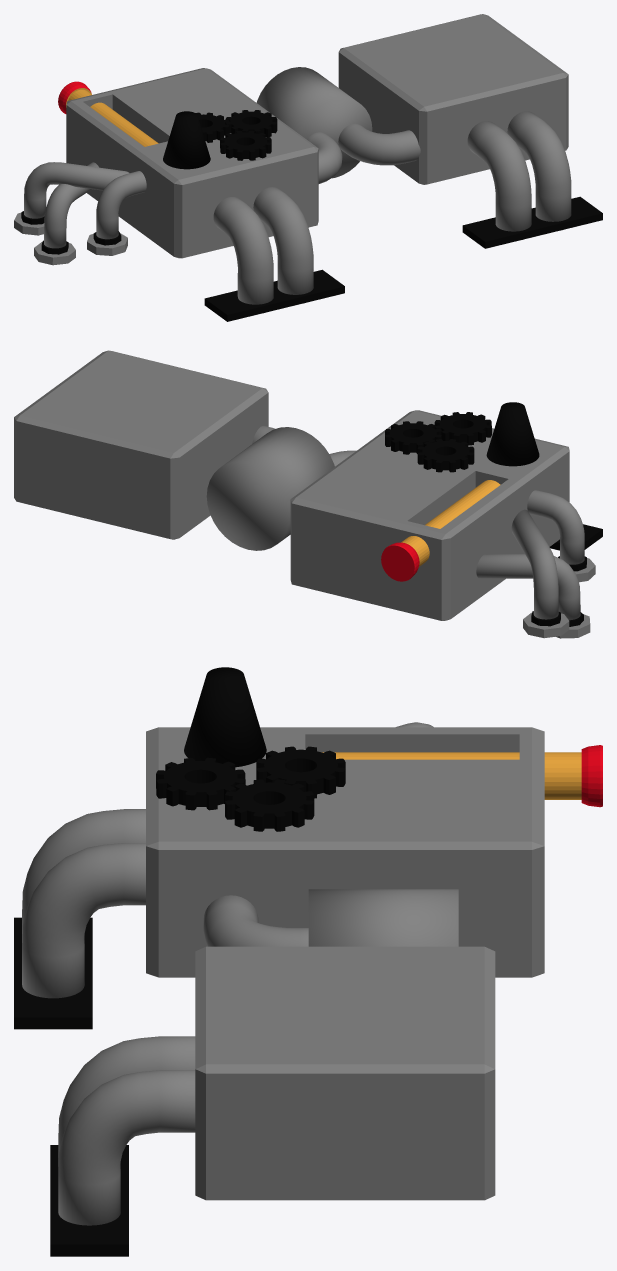
File: PipePlungerTest2.fbx
The picture shows the model from 3 angles, top to bottom: view 1: azimuth 30°, elevation 25°; view 2: azimuth 150°, elevation 25°; view 3: azimuth 270°, elevation 25°; orthographic projection. The views are drawn at different scales.
Visible parts, largest first — view 1: Cube, Cube.001, P1P2Holder.002, P1P2Holder.003, Cylinder.001, BigScrew.004, BigScrew.002, Pipe2Deco.003, BigScrew.003, Cylinder.003, Cylinder.002, Gear.002 (+3 smaller); view 2: Cube.001, Cube, Cylinder.001, BigScrew.004, BigScrew.003, BigScrew.002, Cylinder.002, Cylinder.003, Gear.001, Gear.002, Gear, P1P2Holder.003; view 3: Cube.001, Cube, P1P2Holder.002, P1P2Holder.003, Cylinder.001, Cylinder.003, Cylinder.002, Gear, Pipe2Deco.002, Gear.002, Gear.001.
Boxes of the visible parts, x1,y1,x2,y2 form: Cube: [66, 68, 318, 258]; Cube.001: [338, 14, 568, 184]; P1P2Holder.002: [462, 111, 602, 248]; P1P2Holder.003: [204, 187, 344, 321]; Cylinder.001: [256, 67, 372, 178]; BigScrew.004: [14, 162, 129, 235]; BigScrew.002: [87, 171, 146, 255]; Pipe2Deco.003: [338, 123, 420, 165]; BigScrew.003: [34, 162, 98, 265]; Cylinder.003: [163, 111, 210, 169]; Cylinder.002: [58, 81, 158, 146]; Gear.002: [220, 130, 271, 160]; Cube.001: [14, 350, 268, 539]; Cube: [290, 410, 569, 620]; Cylinder.001: [206, 427, 334, 550]; BigScrew.004: [511, 509, 569, 638]; BigScrew.003: [476, 554, 590, 638]; BigScrew.002: [527, 490, 595, 582]; Cylinder.002: [381, 480, 500, 581]; Cylinder.003: [486, 402, 539, 466]; Gear.001: [417, 439, 474, 472]; Gear.002: [434, 412, 491, 445]; Gear: [385, 421, 441, 454]; P1P2Holder.003: [549, 524, 602, 550]; Cube.001: [195, 946, 495, 1200]; Cube: [146, 727, 544, 977]; P1P2Holder.002: [50, 1036, 195, 1256]; P1P2Holder.003: [14, 809, 145, 1029]; Cylinder.001: [308, 889, 458, 946]; Cylinder.003: [184, 667, 266, 767]; Cylinder.002: [322, 745, 602, 807]; Gear: [225, 779, 314, 831]; Pipe2Deco.002: [203, 895, 308, 946]; Gear.002: [156, 757, 245, 810]; Gear.001: [256, 746, 345, 798].
Size of the model in its own units: 7782 by 2436 by 4714.
